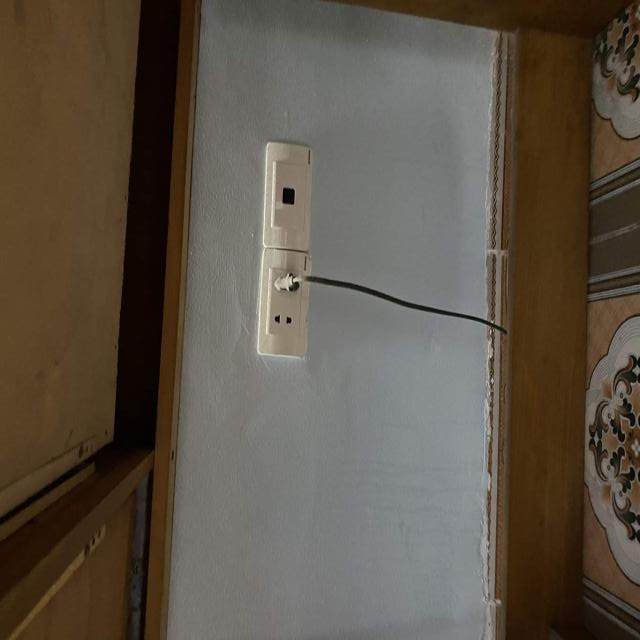outlet: (256, 249, 311, 359), (262, 142, 313, 251)
